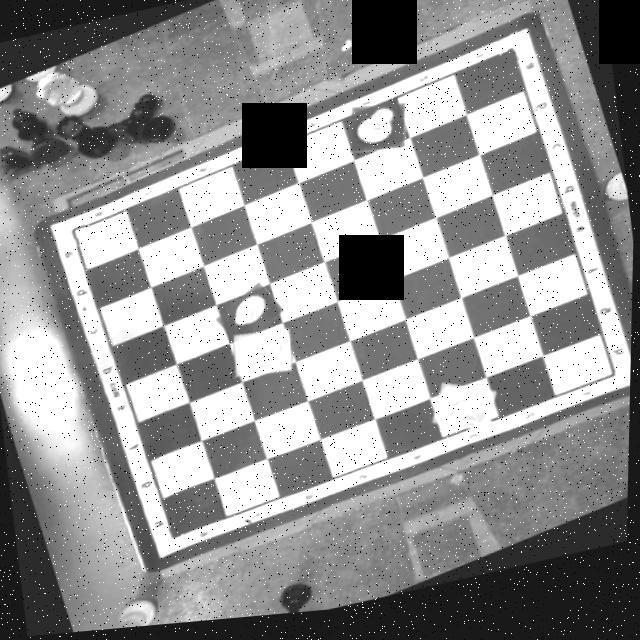chess-table-corners: (594, 364, 630, 404), (494, 38, 529, 76), (58, 214, 92, 252), (164, 524, 188, 552)
